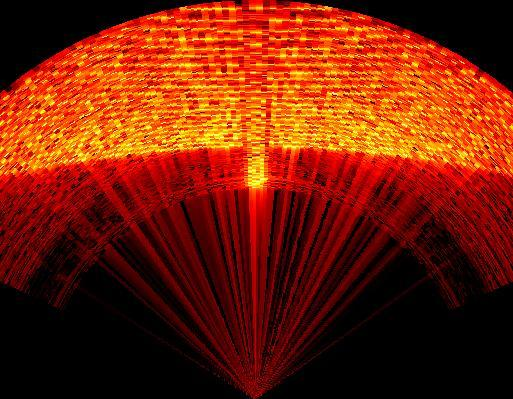pipe: (234, 5, 275, 197)
